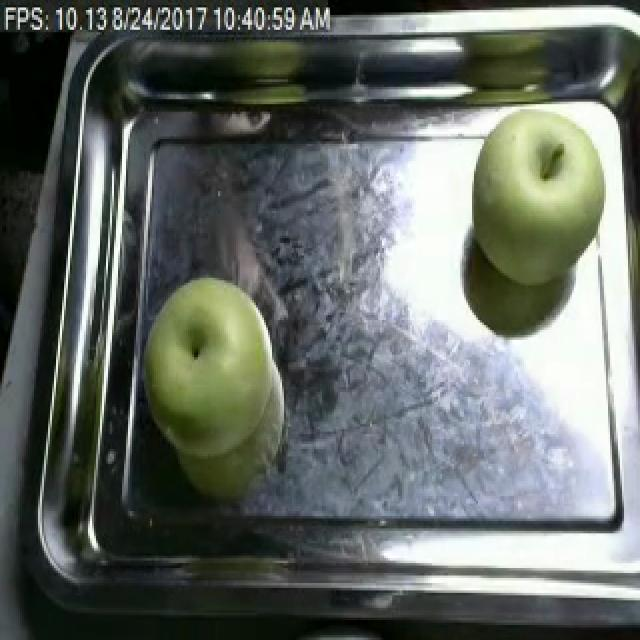50-_ripeness: (125, 264, 289, 467), (464, 106, 610, 279)
